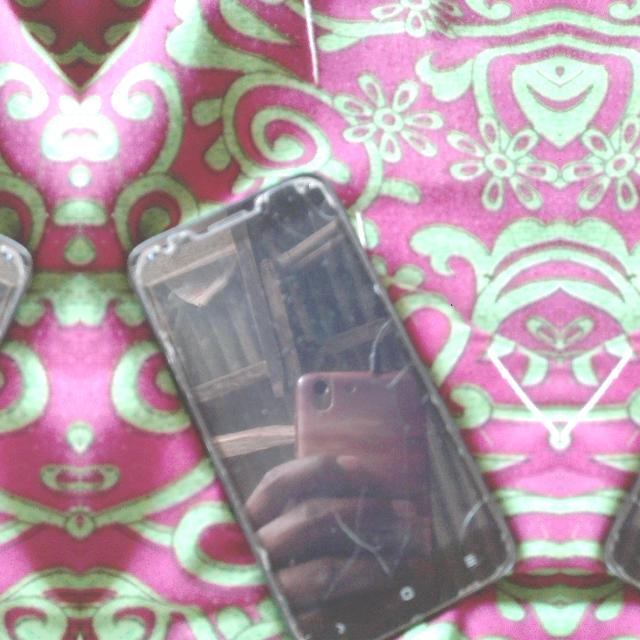phone_screen: (130, 177, 512, 639), (607, 481, 639, 586), (0, 238, 29, 337)
